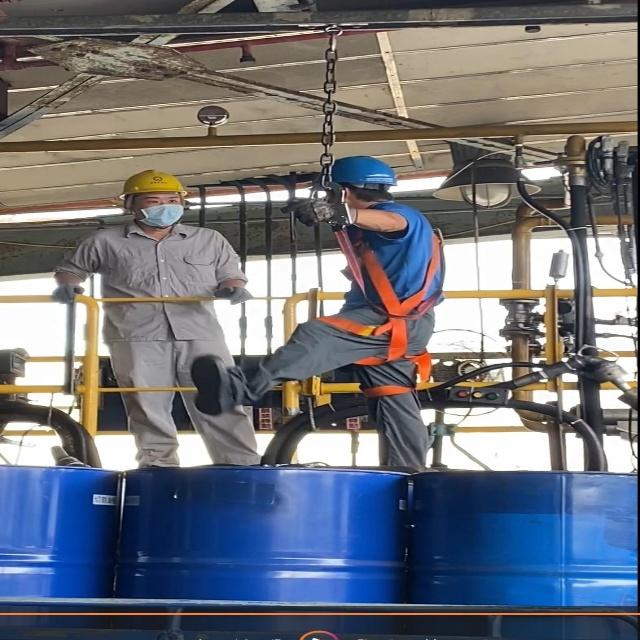Arnes_seguridad: (318, 215, 446, 392)
